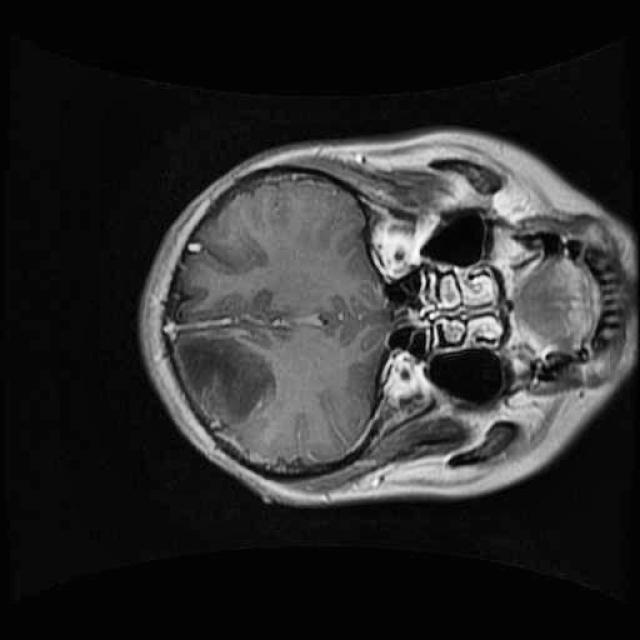Non-Tumor: (160, 312, 301, 448)
